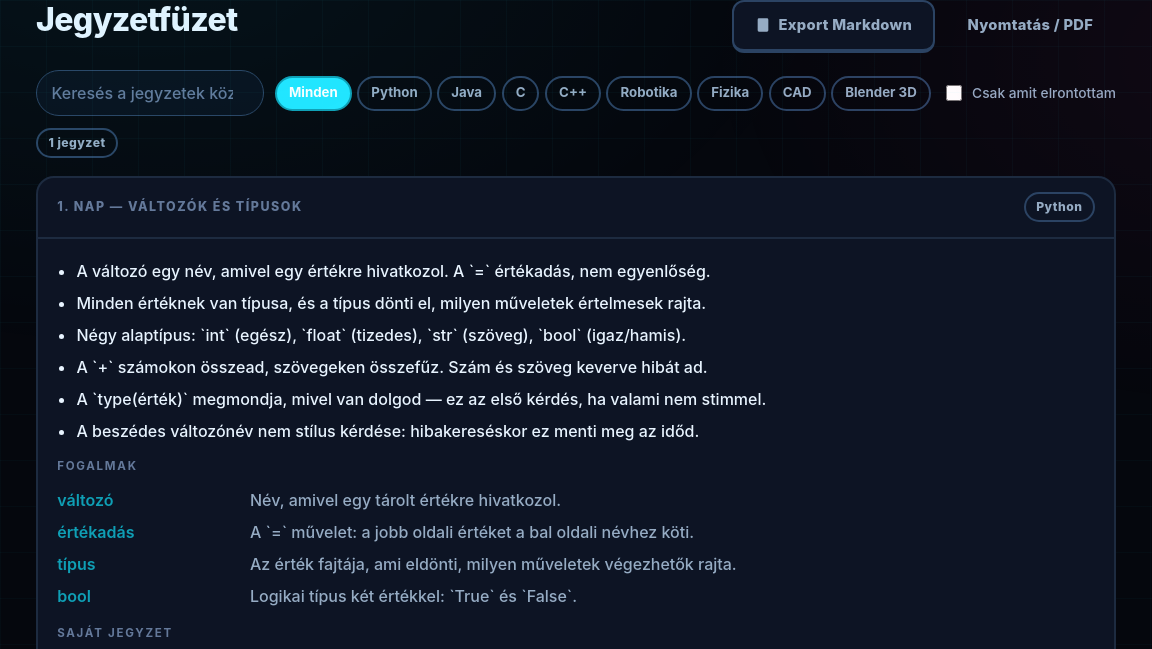
Test case: notebook › says so when nothing matches instead of showing an empty page
The image size is (1152, 649).
Step 1. Type "szervomotor" into the search field → (150, 93), box [36,70,264,116]
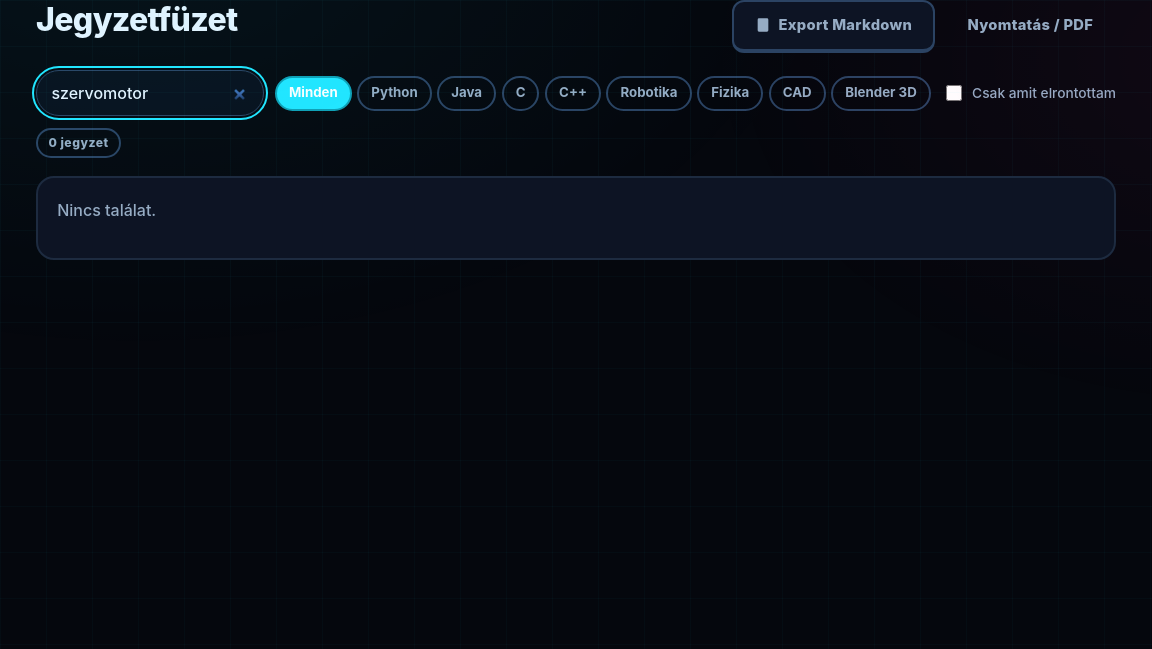
Check: the text "Nincs találat." is shown, box [57,200,156,220]
